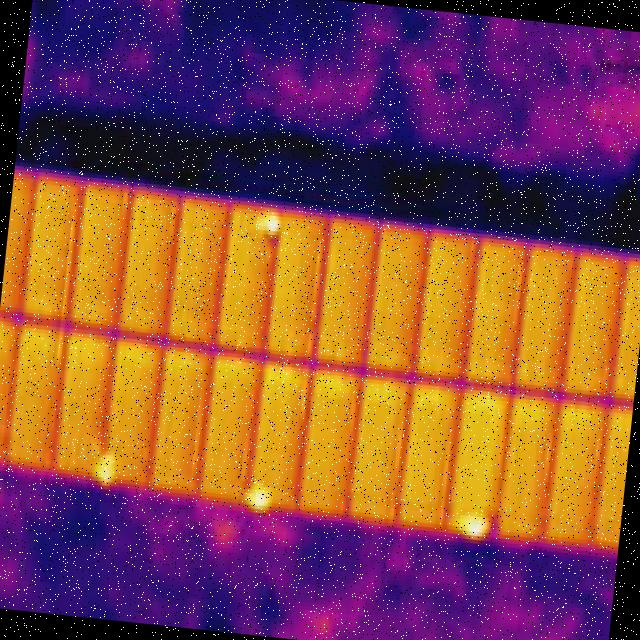Hotspot: (95, 450, 118, 486), (462, 511, 490, 537), (245, 485, 271, 510), (257, 210, 281, 235)
